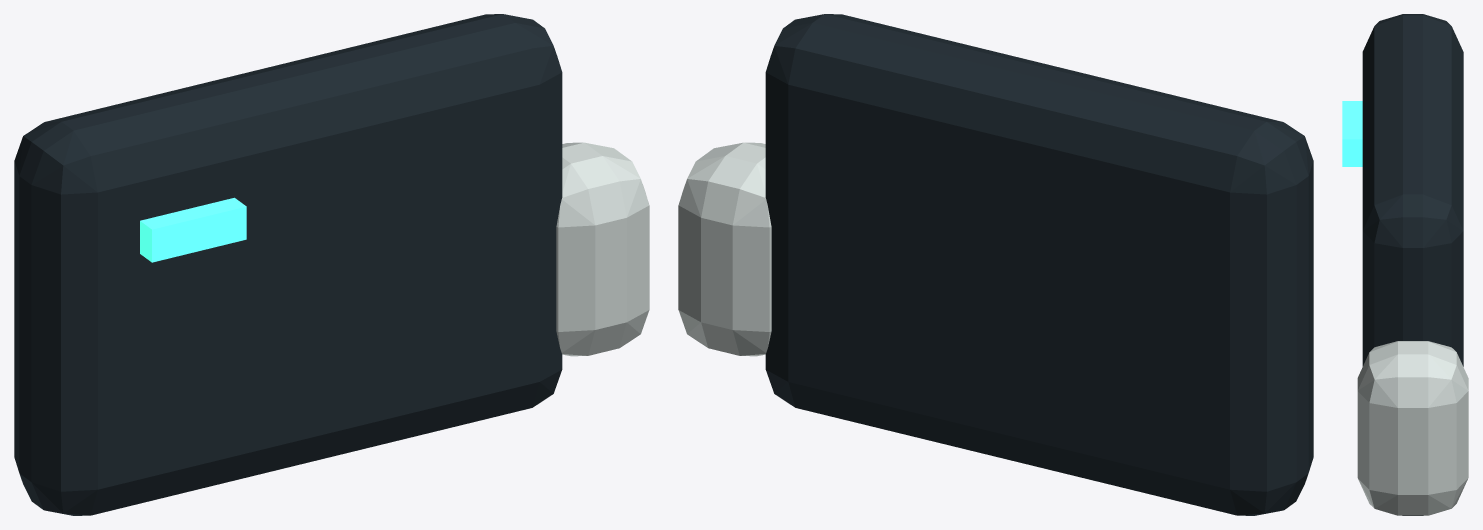
File: CC_S16_P2_Product_MemoryCore_LOD0.fbx
3 views of the same model, side by side, from view 1: azimuth 30°, elevation 25°; view 2: azimuth 150°, elevation 25°; view 3: azimuth 270°, elevation 25° (orthographic). The views are drawn at different scales.
Parts seen in each view (by area): view 1: CC_S16_P2_Product_MemoryCore_LOD0_Device, CC_S16_P2_Product_MemoryCore_LOD0_Connector, CC_S16_P2_Product_MemoryCore_LOD0_LED; view 2: CC_S16_P2_Product_MemoryCore_LOD0_Device, CC_S16_P2_Product_MemoryCore_LOD0_Connector; view 3: CC_S16_P2_Product_MemoryCore_LOD0_Device, CC_S16_P2_Product_MemoryCore_LOD0_Connector, CC_S16_P2_Product_MemoryCore_LOD0_LED.
Boxes of the visible parts, x1=… form: CC_S16_P2_Product_MemoryCore_LOD0_Device: x1=14, y1=14, x2=562, y2=515; CC_S16_P2_Product_MemoryCore_LOD0_Connector: x1=556, y1=142, x2=649, y2=356; CC_S16_P2_Product_MemoryCore_LOD0_LED: x1=140, y1=197, x2=246, y2=262; CC_S16_P2_Product_MemoryCore_LOD0_Device: x1=765, y1=14, x2=1313, y2=515; CC_S16_P2_Product_MemoryCore_LOD0_Connector: x1=678, y1=142, x2=771, y2=356; CC_S16_P2_Product_MemoryCore_LOD0_Device: x1=1362, y1=14, x2=1463, y2=515; CC_S16_P2_Product_MemoryCore_LOD0_Connector: x1=1357, y1=341, x2=1468, y2=515; CC_S16_P2_Product_MemoryCore_LOD0_LED: x1=1342, y1=101, x2=1362, y2=166.
Size of what is drawn, in the model's own units: 0.116 by 0.07 by 0.025.
